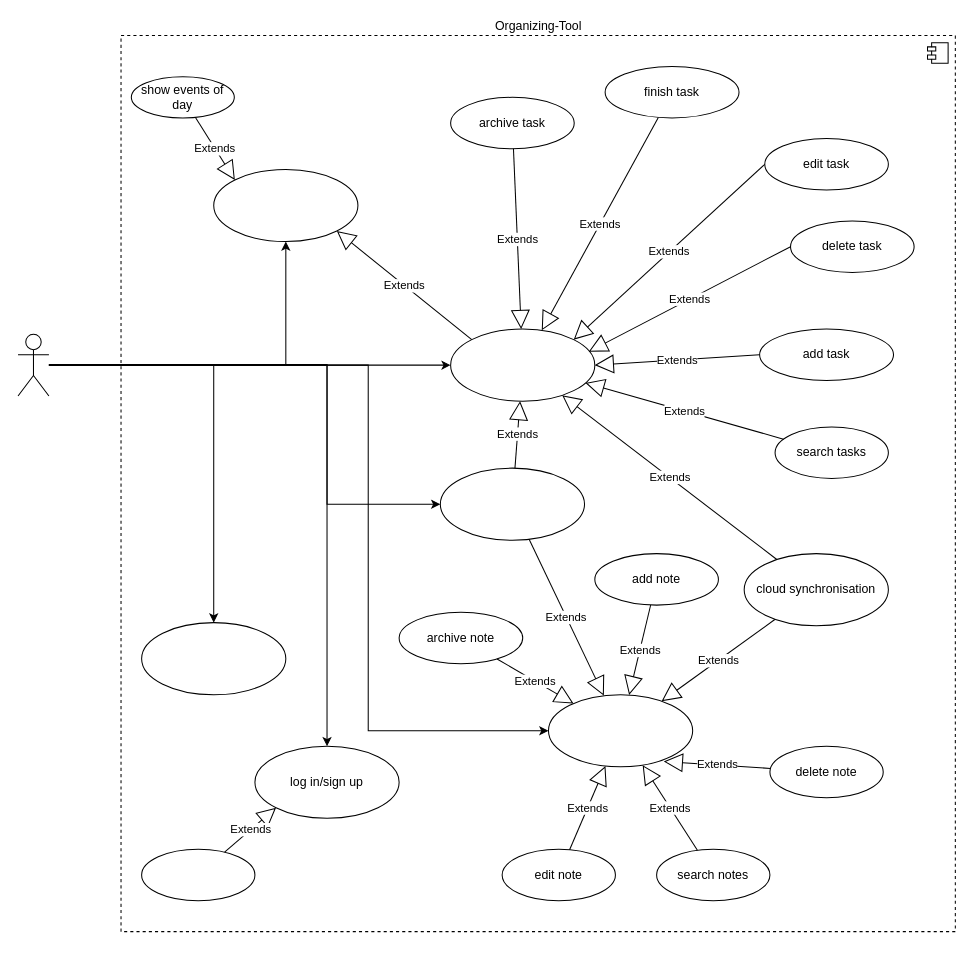
Some shapes in this 973 by 958 pixel diagram are drawn without their labels. Each missing label, with the centre of its shape:
"Actor" goes at point 33,364.
"enter credentials" goes at point 198,874.
"export tasks and notes" goes at point 512,503.
"log out" goes at point 213,658.
"manage notes" goes at point 620,730.
"manage tasks" goes at point 522,364.
"show calendar" goes at point 285,205.
